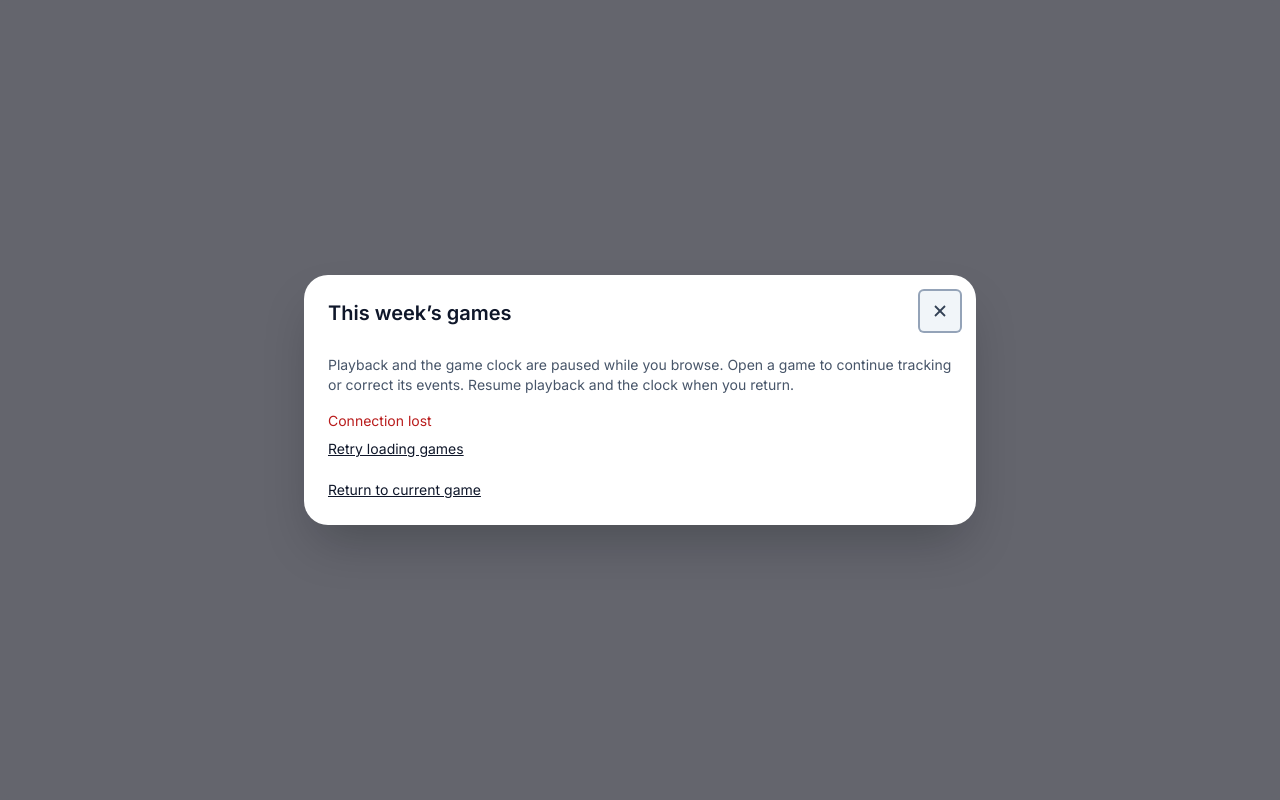
Scenario: loading failures can be retried without leaving the tracker
Expected: the message reads "Connection lost", [328, 412, 432, 429]
What coordinates should you click on to do the following:
click the button "Retry loading games"
I would click on:
 (396, 449)
Its box is [328, 439, 464, 459].
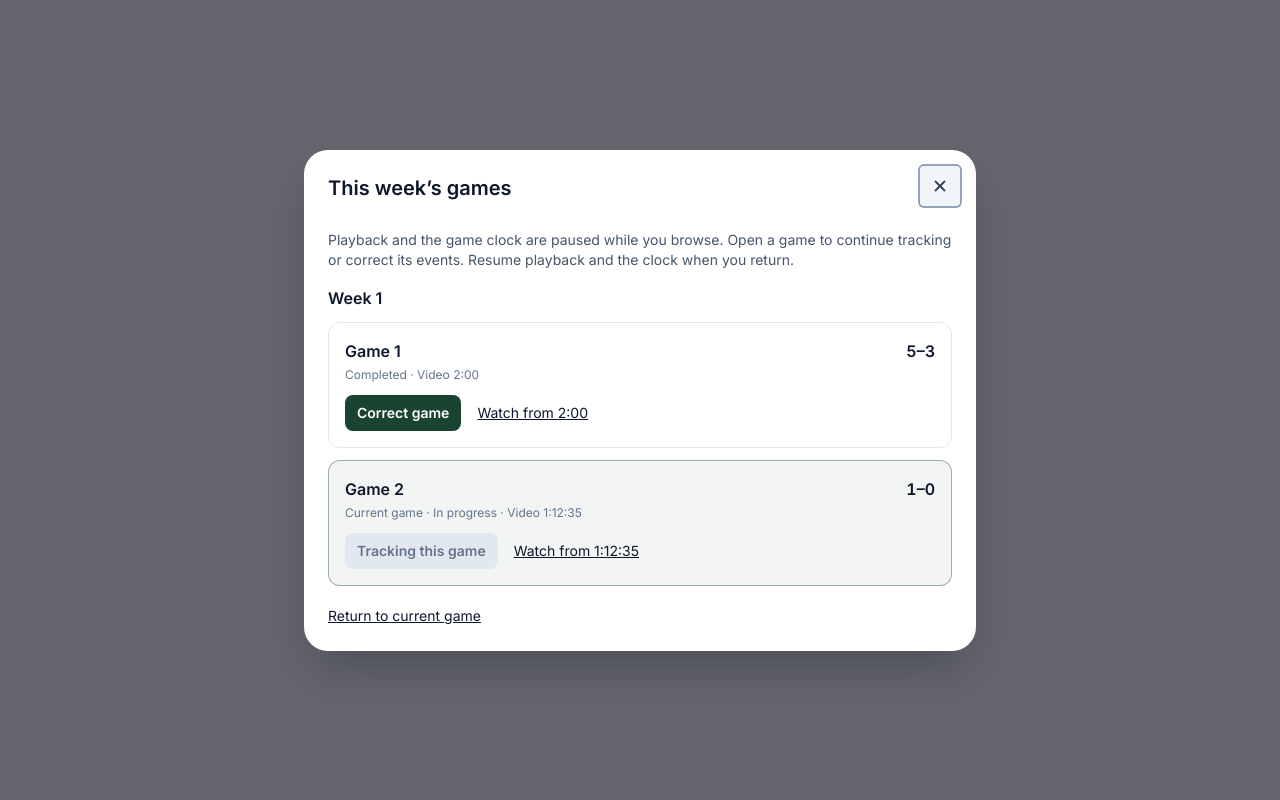
Result: the text "Game 1" is shown at [345, 338, 401, 362]
Result: the message "Connection lost" is gone
